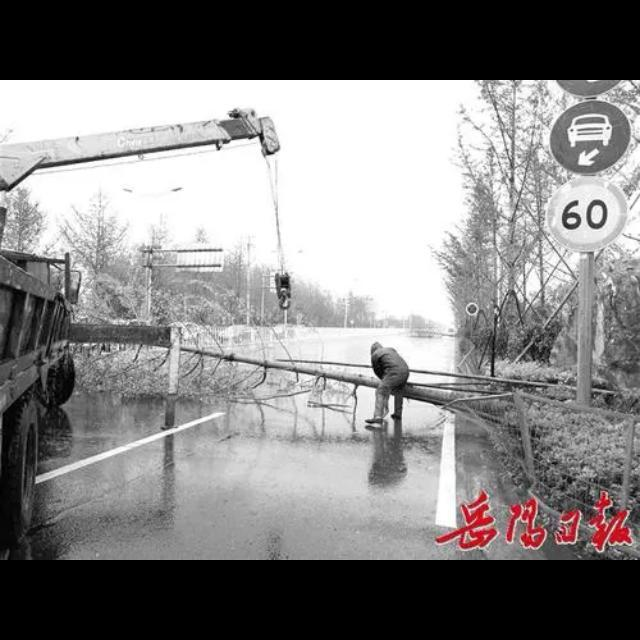fallen_tree: (79, 272, 525, 446)
